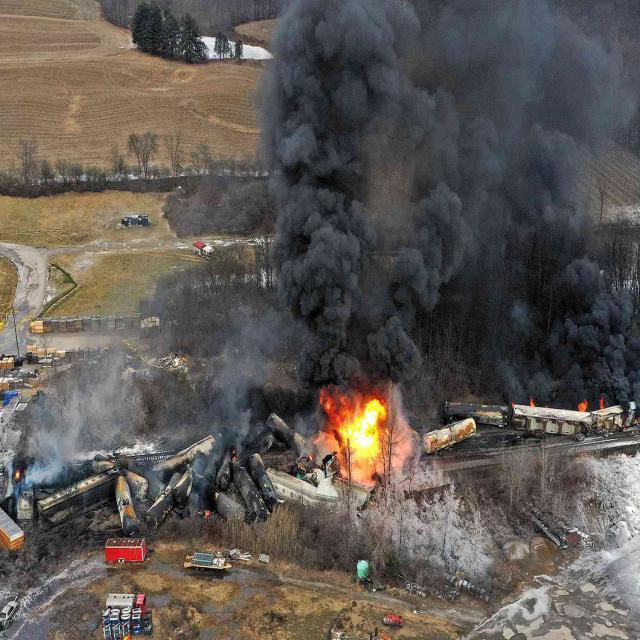fire: (320, 384, 394, 480)
